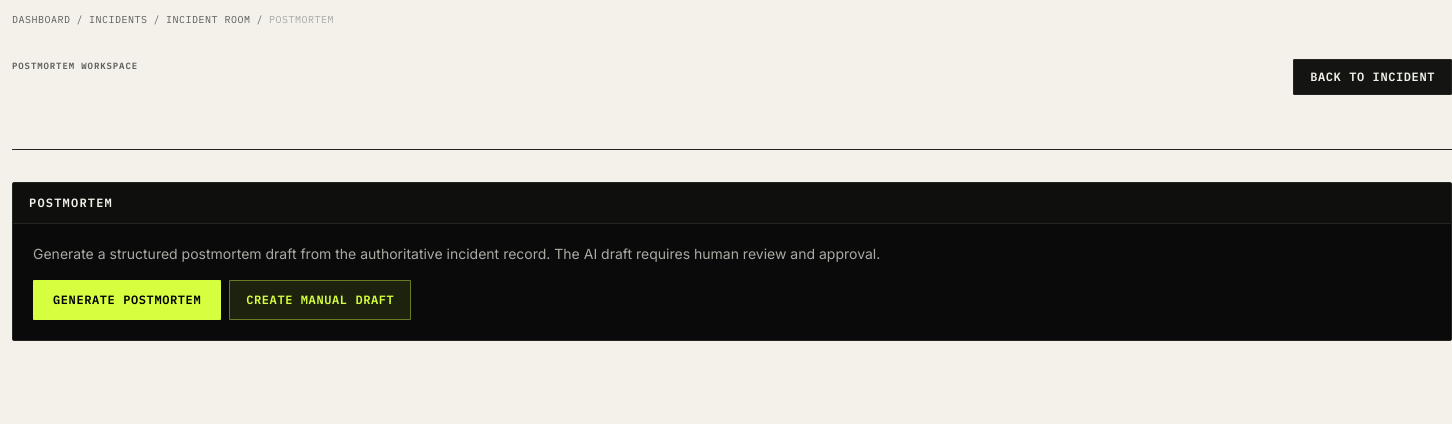
Test: Phase 09 Postmortem editor › shows an AI error state with manual fallback after generation failure
What coordinates should you click on to do the following:
click the button "GENERATE POSTMORTEM"
I would click on:
 (127, 300)
Its box is [33,280,221,320].
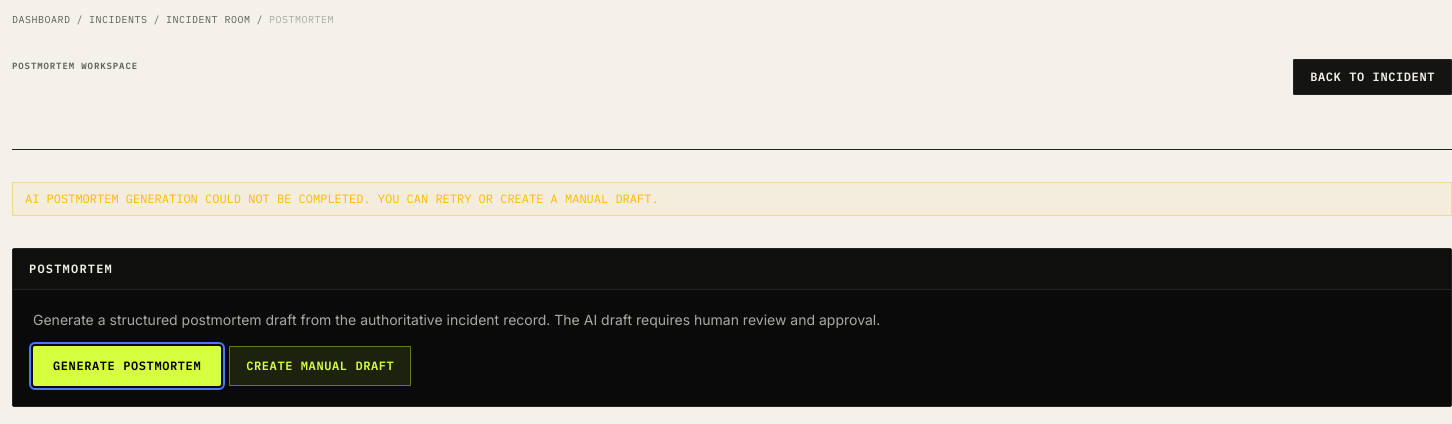
Check: the button "CREATE MANUAL DRAFT" is shown, box [229,346,411,386]
Check: the text "AI POSTMORTEM GENERATION COULD NOT BE COMPLETED" is shown, box [25,190,659,206]
